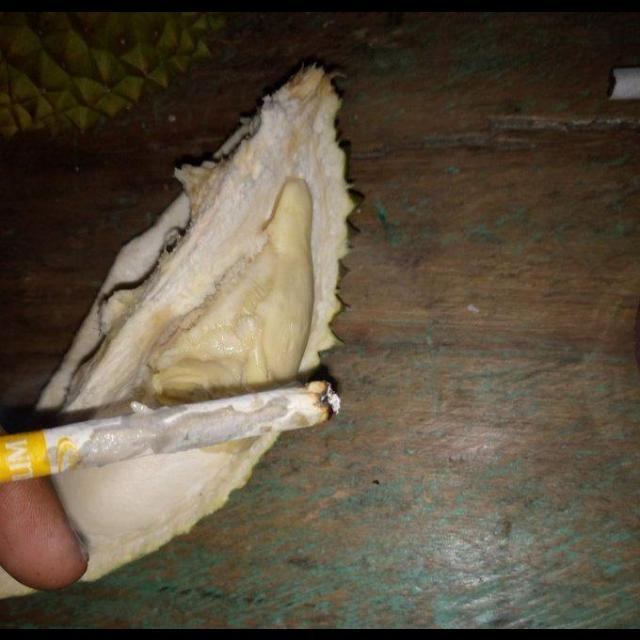rokok: (1, 370, 352, 490)
